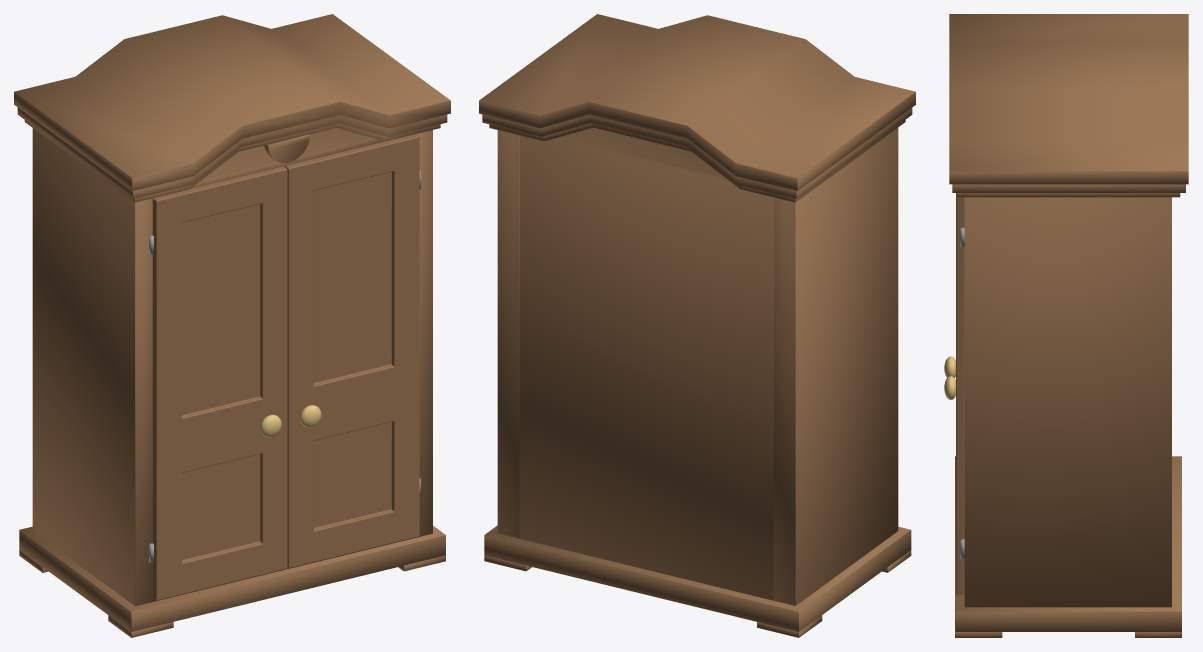
The model's file is Wardrobe.glb.
3 renders of one model, left to right at view 1: azimuth 30°, elevation 25°; view 2: azimuth 150°, elevation 25°; view 3: azimuth 270°, elevation 25°, orthographic.
Parts seen in each view (by area): view 1: Wardrobe_Body, Wardrobe_Door_L, Wardrobe_Door_R; view 2: Wardrobe_Body; view 3: Wardrobe_Body, Wardrobe_Door_R.
Part boxes in pixels (x1=…): Wardrobe_Body: x1=14, y1=14, x2=450, y2=637; Wardrobe_Door_L: x1=152, y1=166, x2=287, y2=600; Wardrobe_Door_R: x1=285, y1=134, x2=419, y2=568; Wardrobe_Body: x1=479, y1=14, x2=915, y2=637; Wardrobe_Body: x1=949, y1=14, x2=1188, y2=637; Wardrobe_Door_R: x1=956, y1=193, x2=964, y2=594.
Bounding box in the file's own units: 1.37 × 2 × 0.8975.
